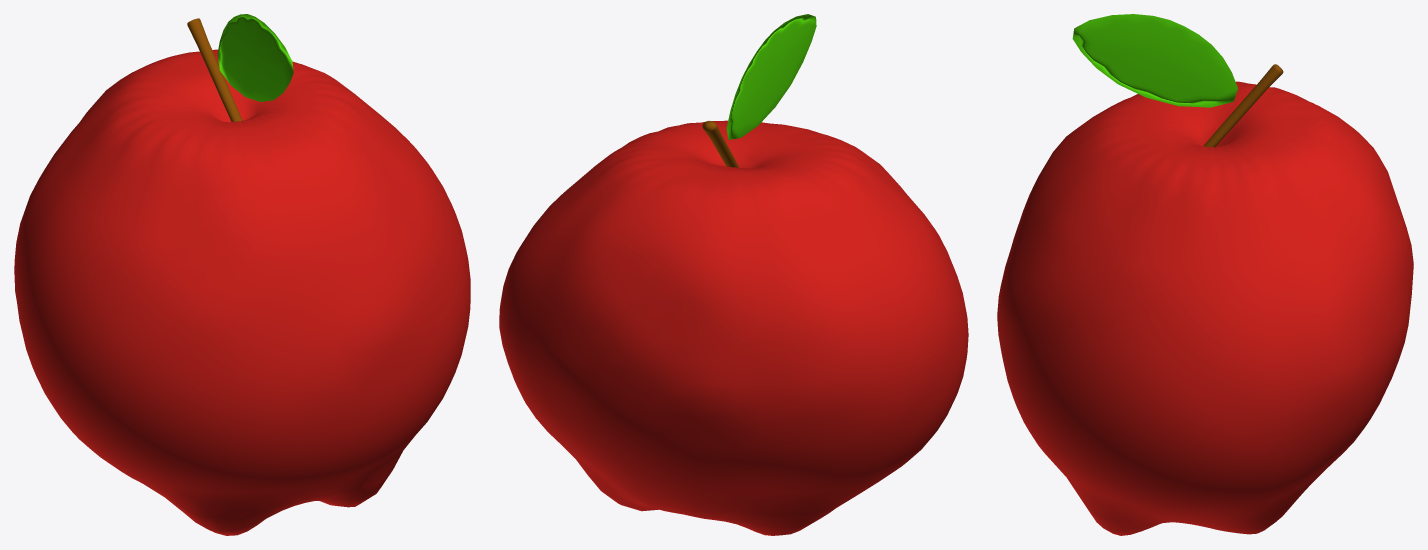
Rendered from appleSecond.fbx.
3 views of the same model, side by side, from view 1: azimuth 30°, elevation 25°; view 2: azimuth 150°, elevation 25°; view 3: azimuth 270°, elevation 25° (orthographic). The views are drawn at different scales.
Parts seen in each view (by area): view 1: Apple; view 2: Apple; view 3: Apple.
Part boxes in pixels (x1,y1,x2,y2): Apple: [14, 14, 470, 535]; Apple: [499, 14, 968, 535]; Apple: [997, 14, 1413, 535].
Bounding box in the file's own units: 98.28 × 110 × 86.77.
